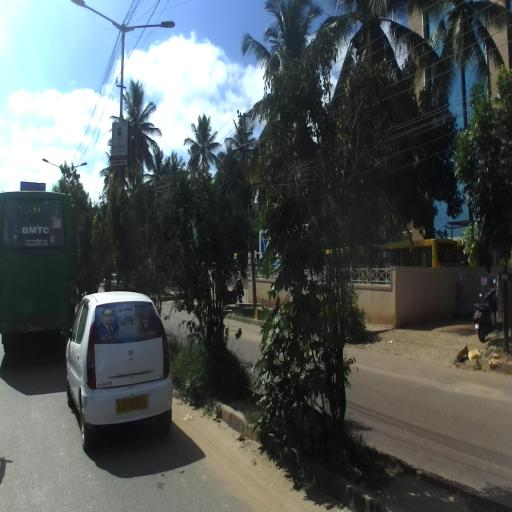street_light_0: (70, 0, 126, 42), (121, 21, 175, 44), (42, 158, 60, 167), (68, 163, 87, 168)
